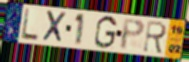1: (74, 13, 87, 46)
G: (93, 15, 119, 50)
L: (20, 7, 40, 43)
P: (119, 18, 146, 51)
R: (142, 19, 169, 56)
X: (41, 9, 68, 45)
